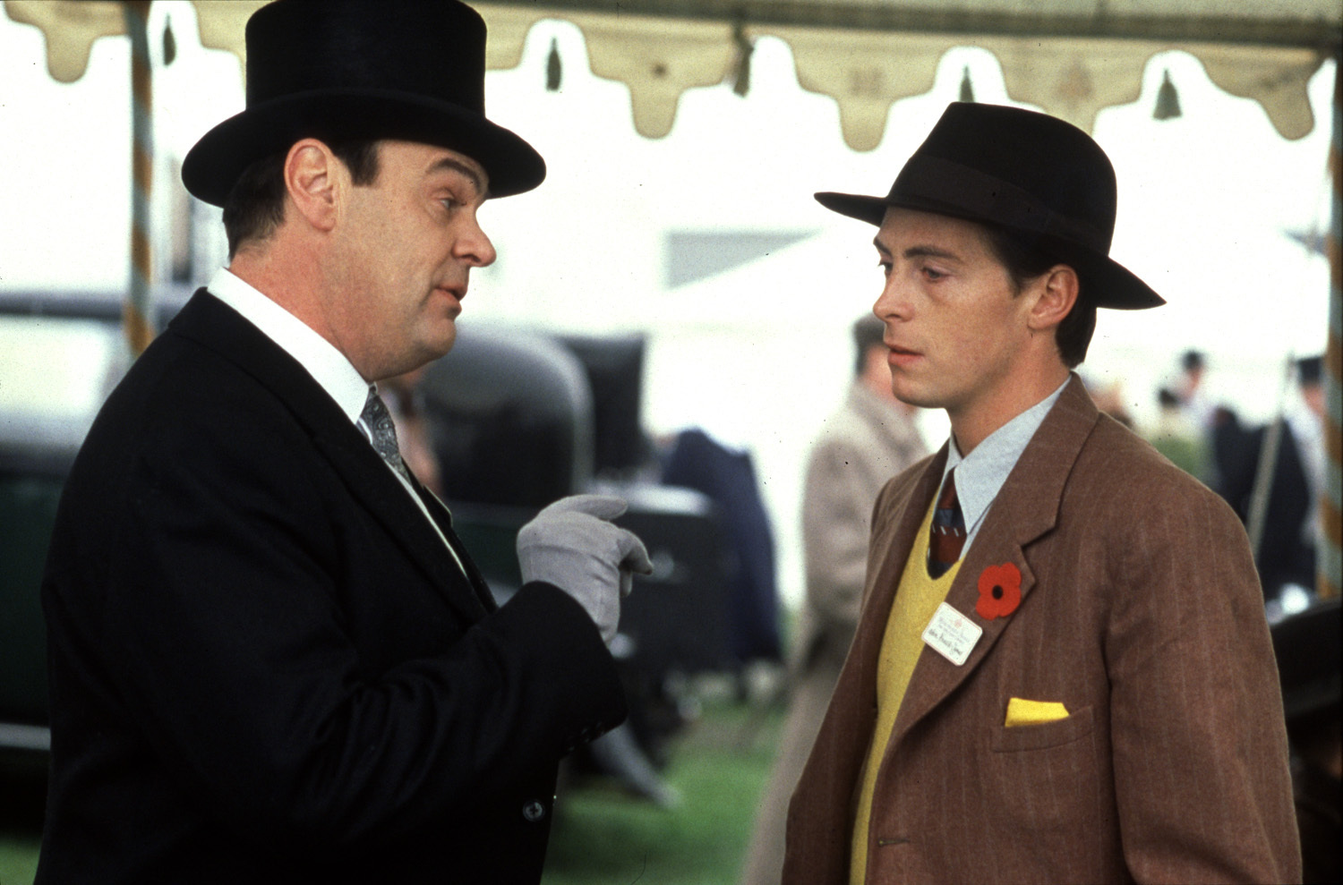25: (311, 73, 512, 398)
28: (847, 158, 1040, 433)
Coat: (28, 288, 632, 882), (777, 371, 1304, 882)
Gloves: (508, 479, 653, 646)
Hat: (175, 1, 554, 212), (809, 100, 1170, 319)
Male: (311, 73, 512, 398), (847, 158, 1040, 433)
Shirt: (194, 257, 375, 435), (934, 368, 1080, 557)
Tie: (356, 370, 420, 493), (925, 463, 965, 582)
